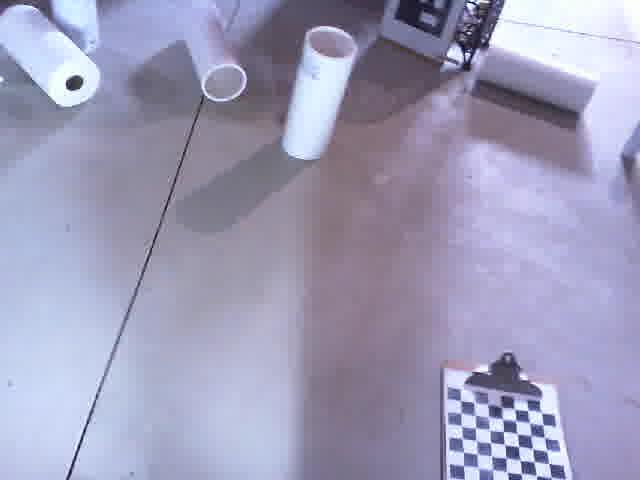coral: (275, 18, 360, 164), (472, 42, 608, 116), (176, 0, 252, 104)
